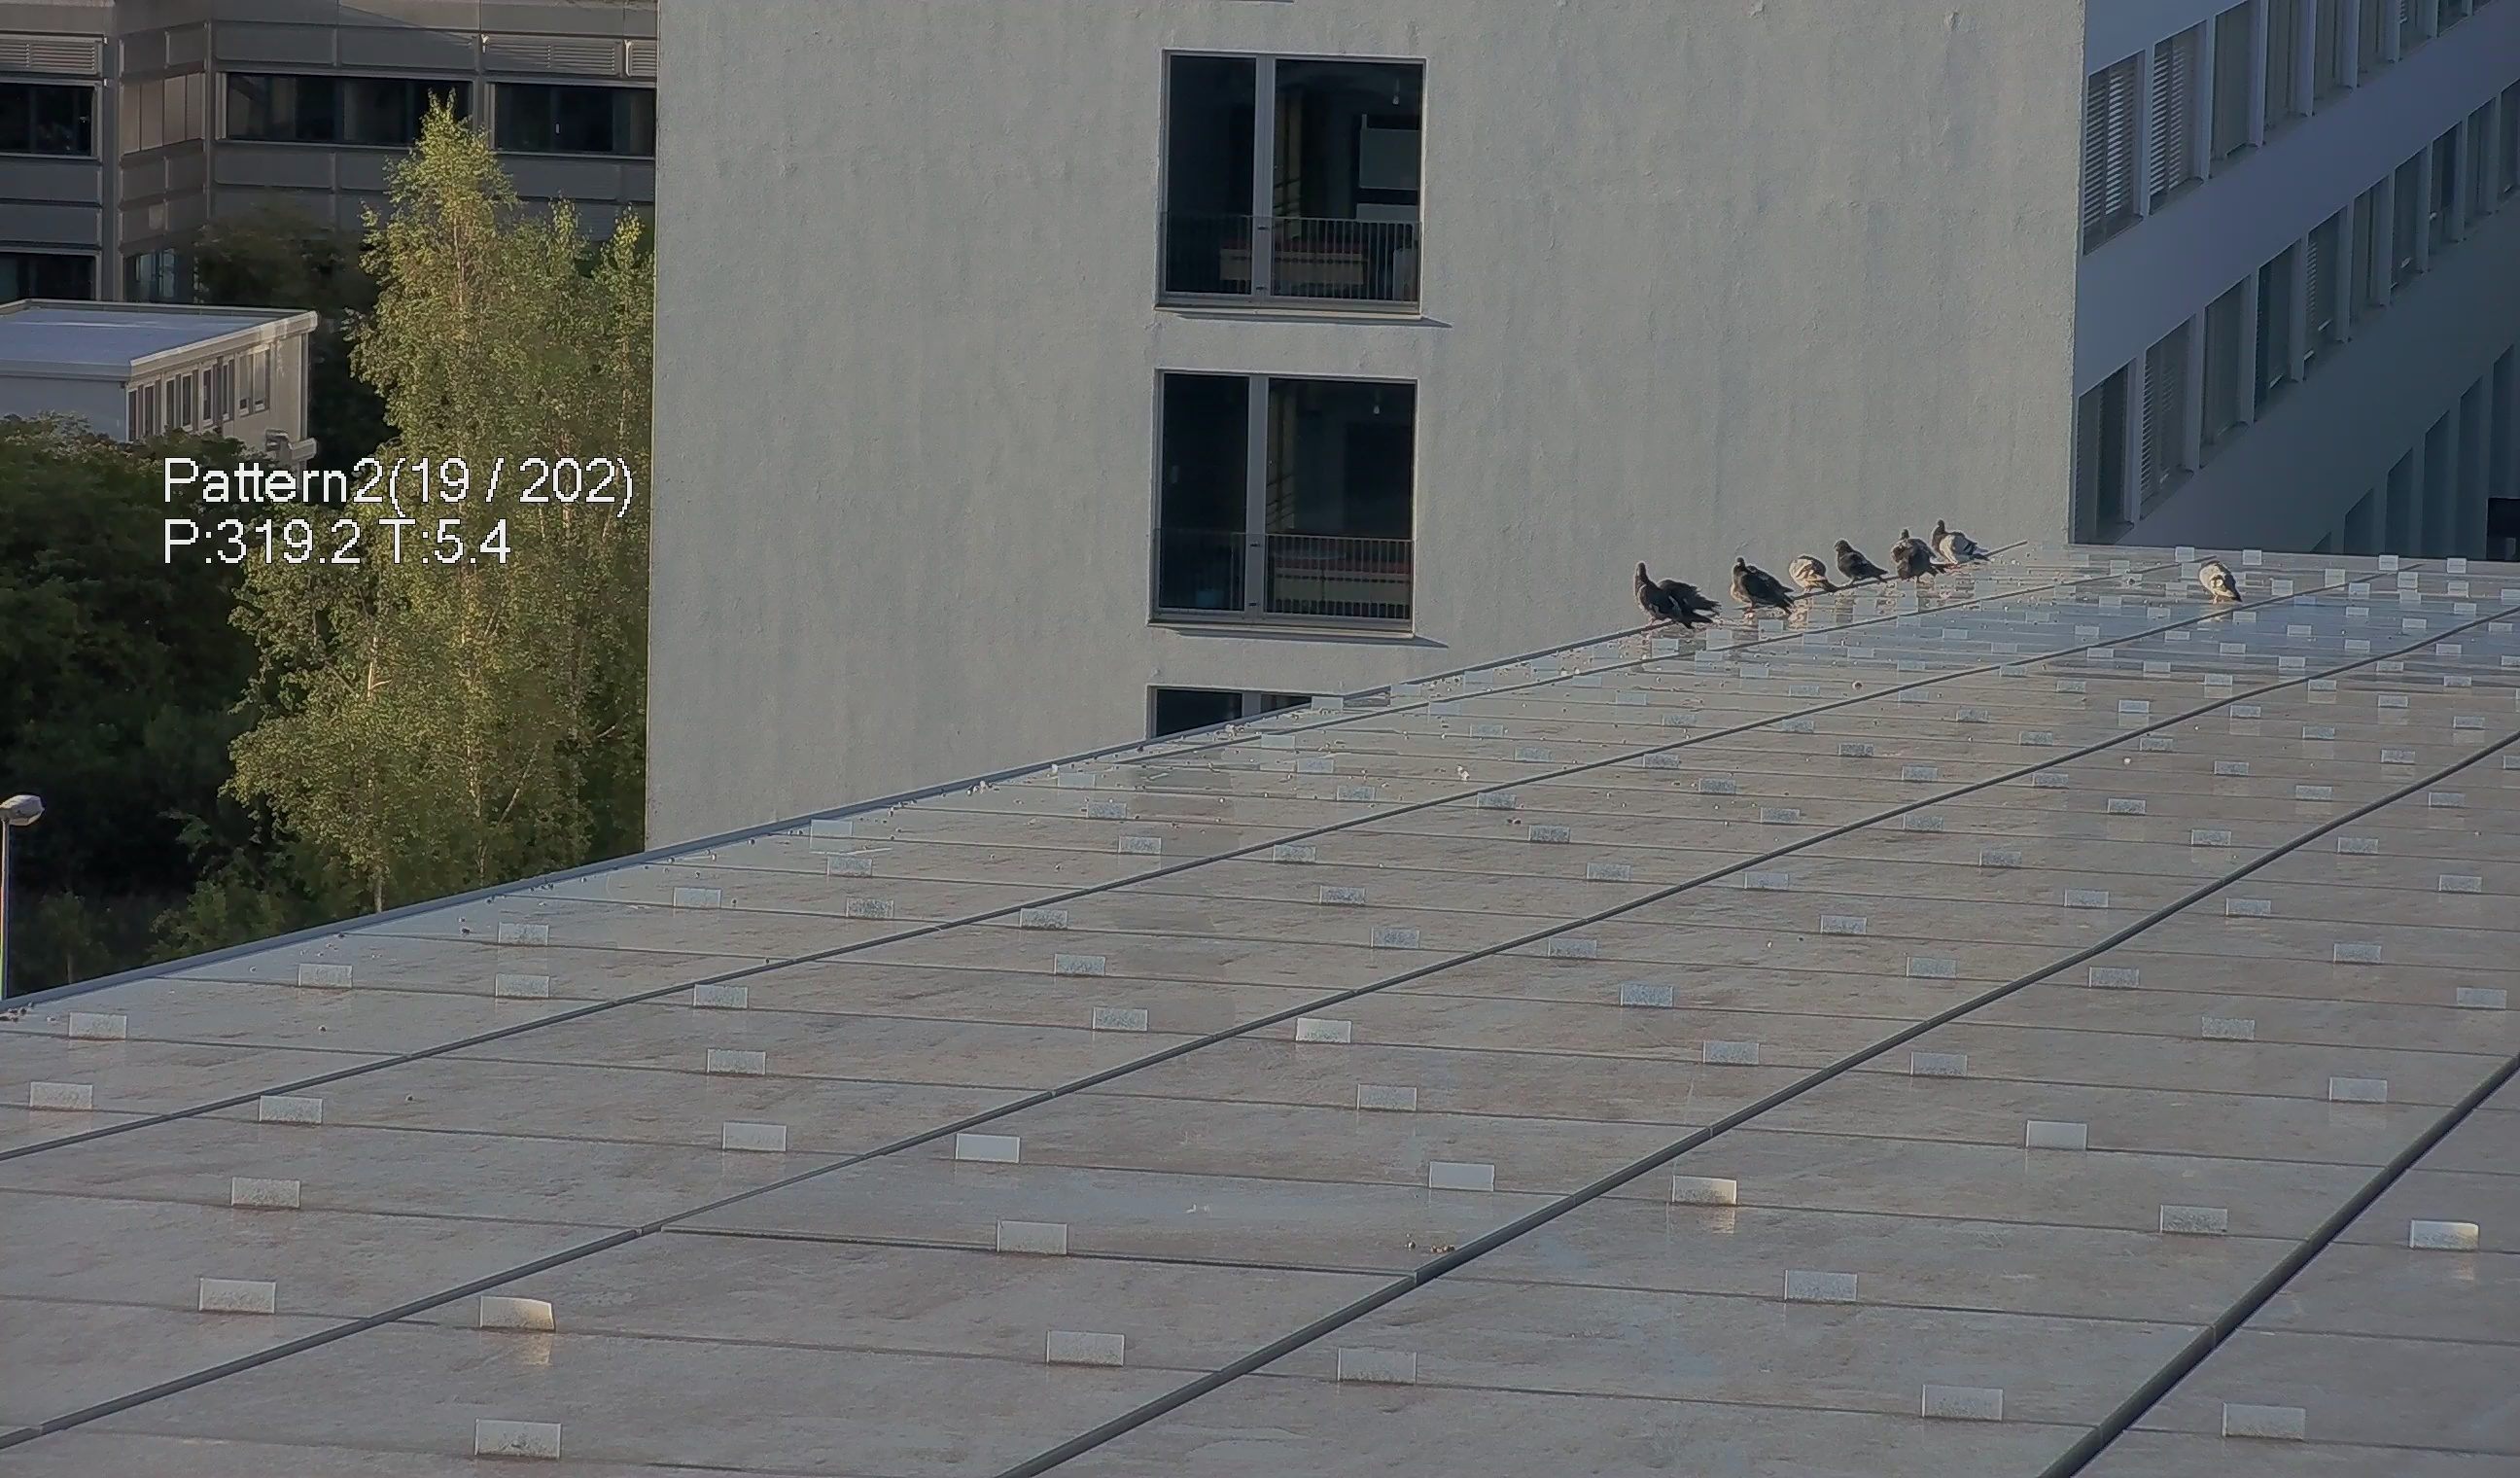Pigeon: (1632, 561, 1716, 637), (1725, 558, 1792, 621), (1927, 517, 1991, 567), (1832, 537, 1889, 588), (2198, 552, 2249, 609), (1787, 552, 1841, 596), (1890, 528, 1934, 582)
